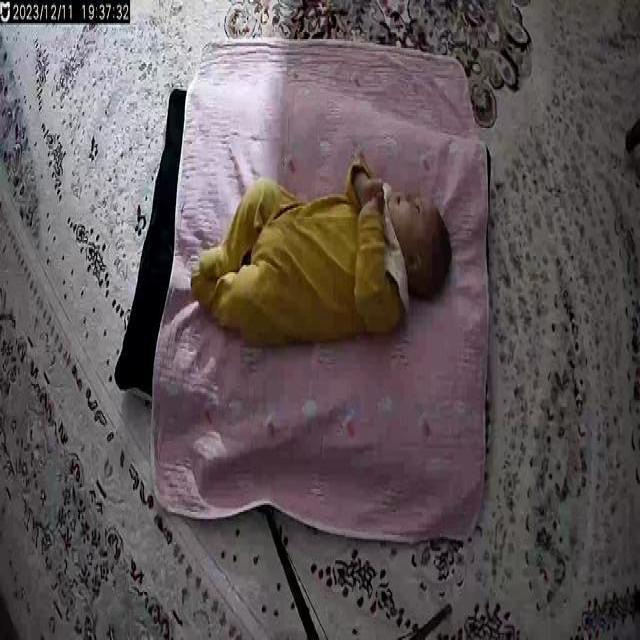baby: (188, 158, 454, 346)
